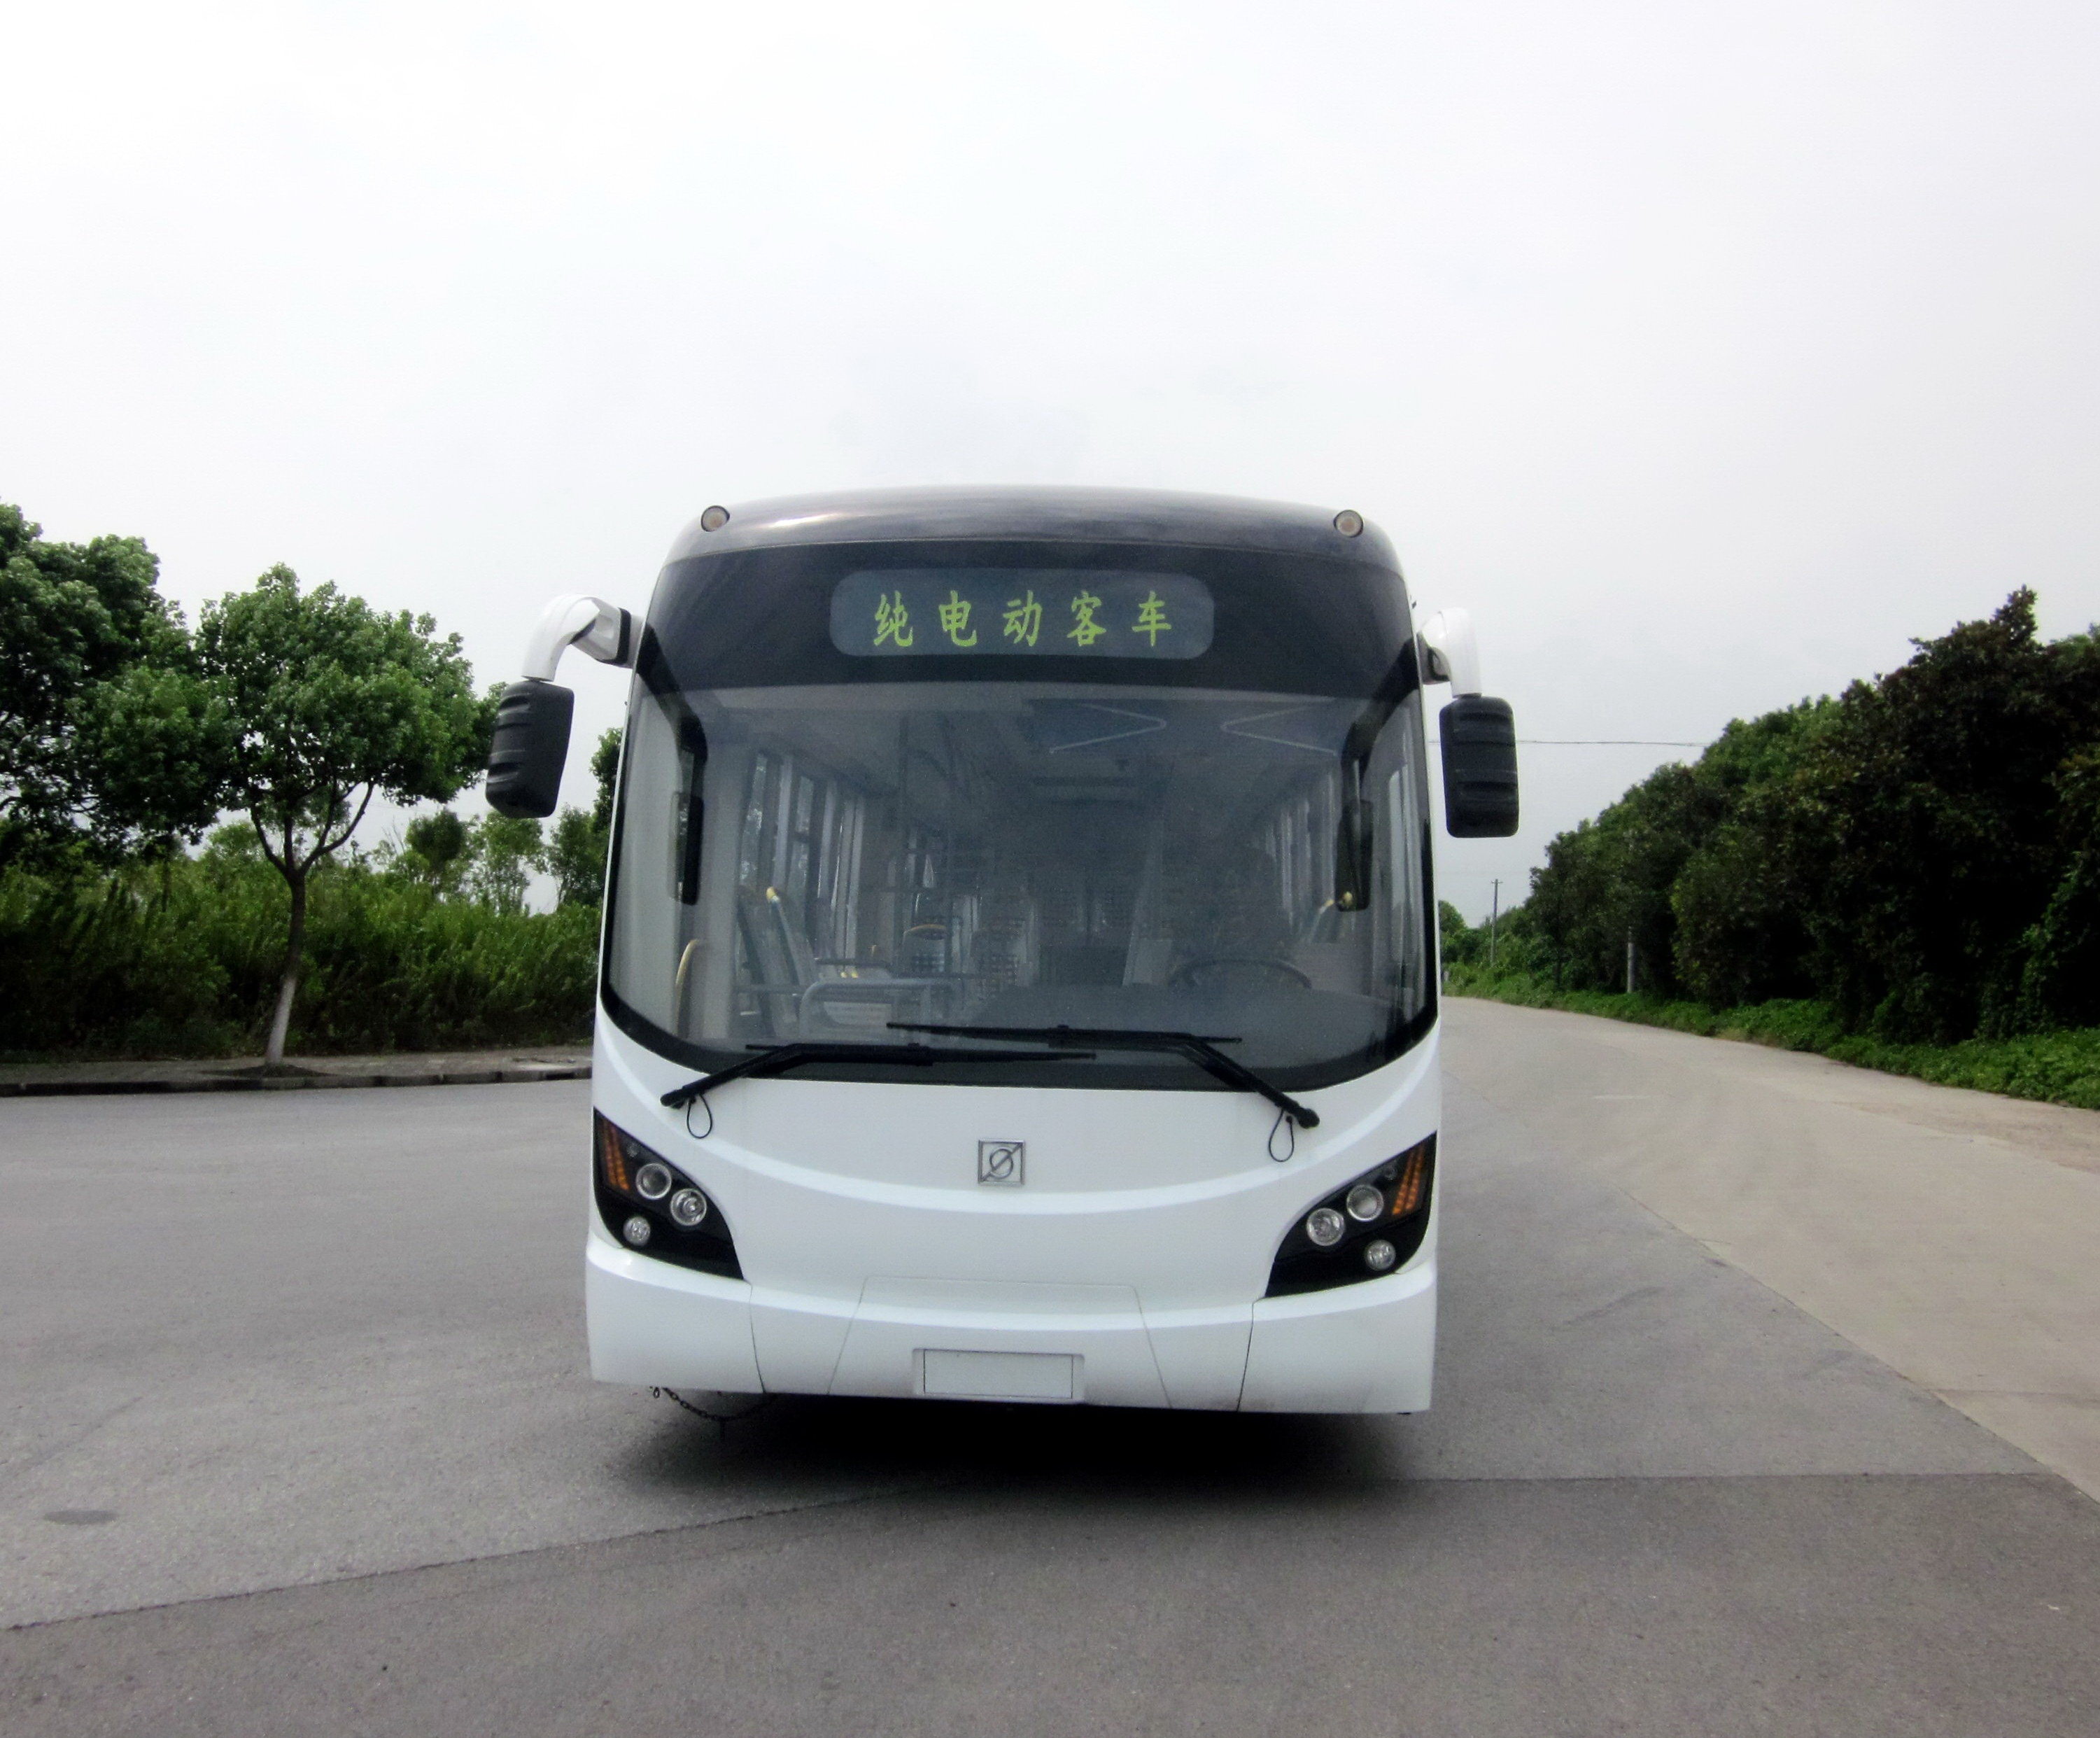bus: (483, 454, 1516, 1548)
